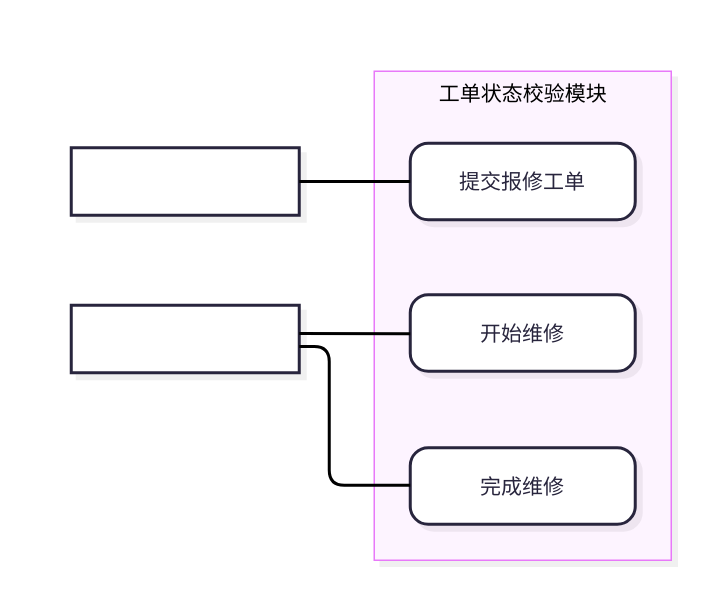
The diagram is 704 pixels wide and 593 high, and some of its shapes have lost their labels. The centre of each missing label's shape, as x and y in pixels:
报修人: (187,184)
维护人员: (187,341)
